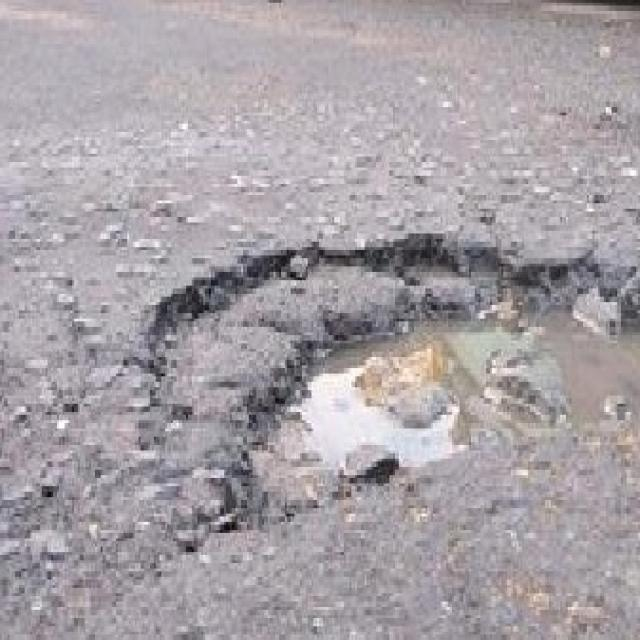road-pothole: (149, 229, 638, 548)
